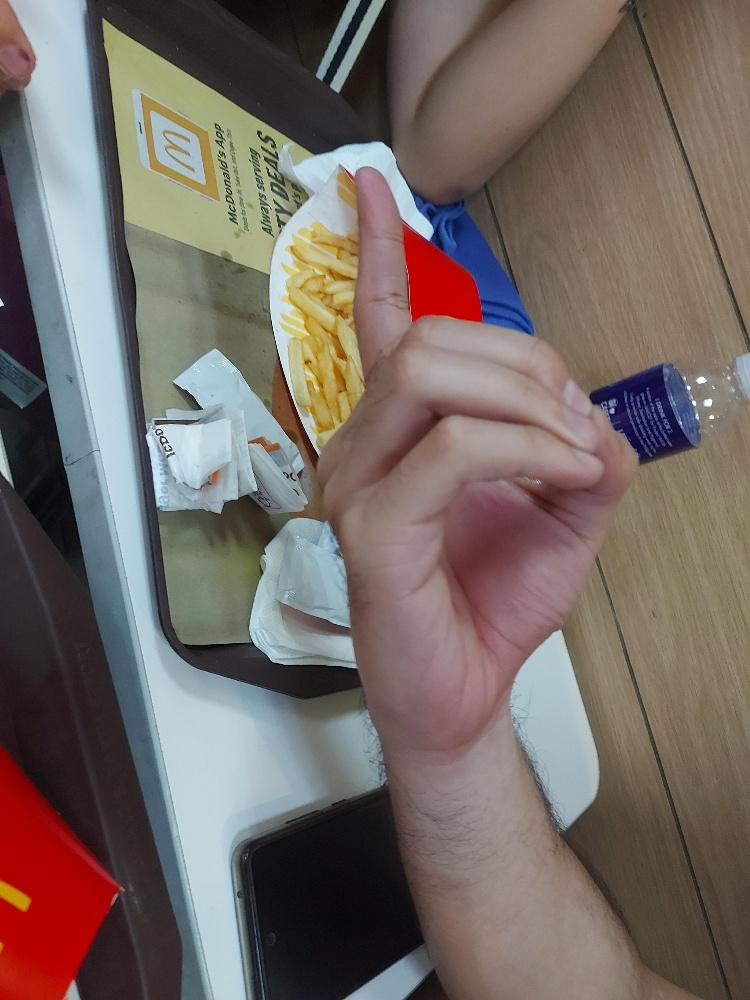d: (310, 159, 643, 747)
